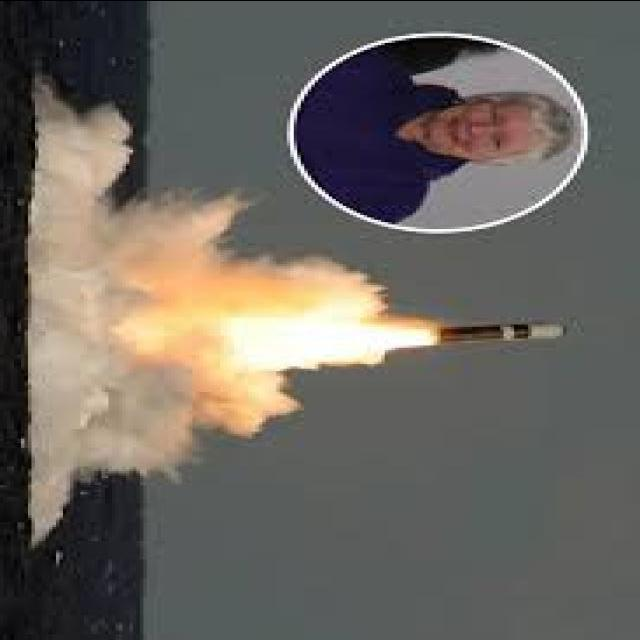missile: (388, 317, 582, 363)
